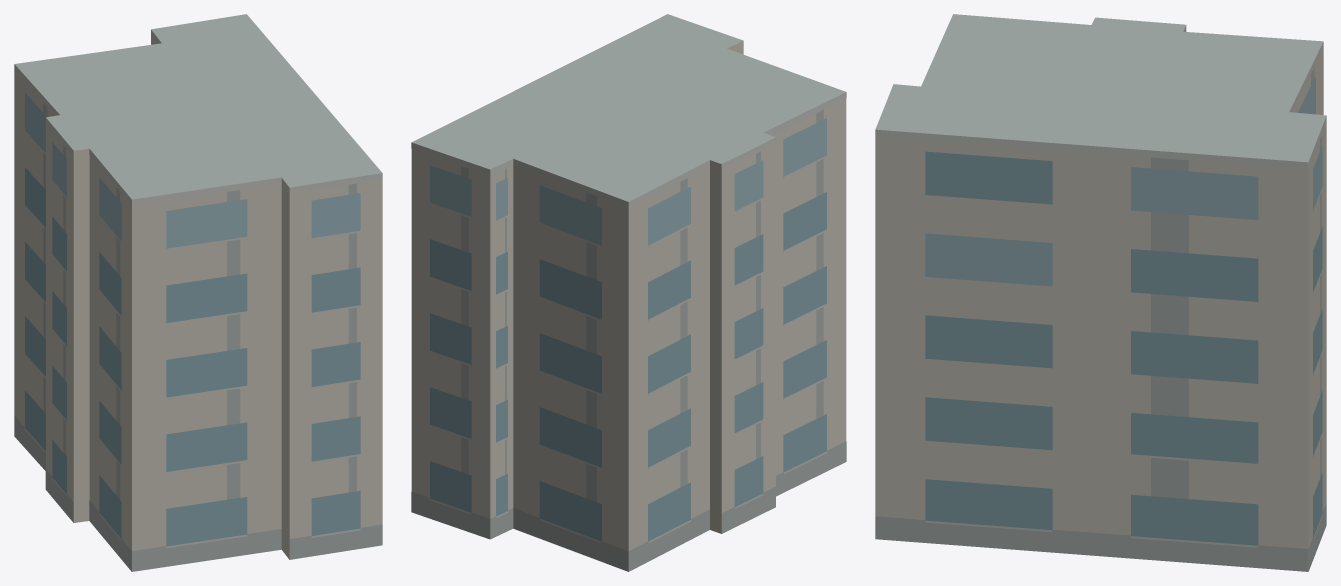
The model's file is survey-upis-32887514.glb.
3 views of the same model, side by side, from view 1: azimuth 30°, elevation 25°; view 2: azimuth 150°, elevation 25°; view 3: azimuth 270°, elevation 25° (orthographic). The views are drawn at different scales.
Parts seen in each view (by area): view 1: survey-upis-32887514.tmp; view 2: survey-upis-32887514.tmp; view 3: survey-upis-32887514.tmp.
Part boxes in pixels (bbox=[...]): survey-upis-32887514.tmp: bbox=[14, 14, 382, 571]; survey-upis-32887514.tmp: bbox=[411, 14, 846, 571]; survey-upis-32887514.tmp: bbox=[875, 14, 1326, 571].
Size of the model in its own units: 11.04 by 14.2 by 14.19.
